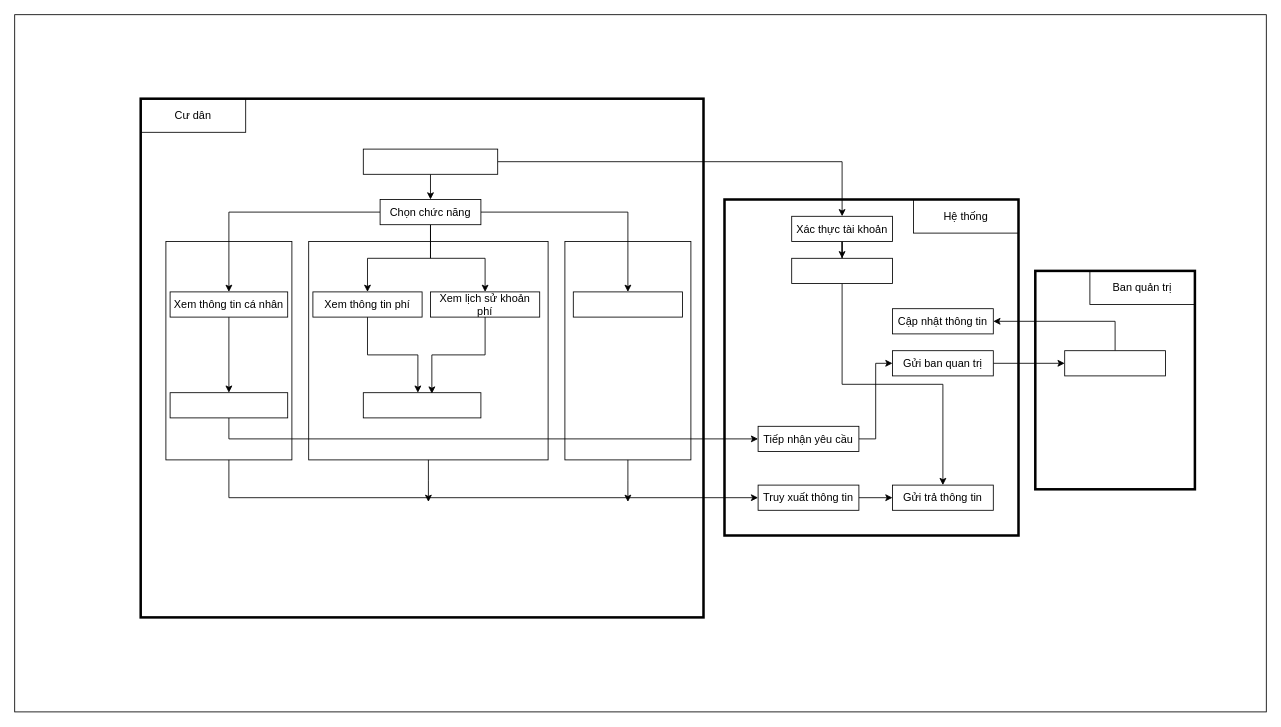
The diagram is 1281 pixels wide and 727 high, and some of its shapes have lost their labels. The box of each missing label's shape, as (x1, y1, x2, y2) in pixels:
Gửi khóa bảo mật: (791, 257, 892, 284)
Tải bản mềm: (362, 392, 481, 418)
Xem tin tức thông báo: (572, 291, 682, 317)
Xem xét và duyệt: (1064, 350, 1166, 376)
Yêu cầu chỉnh sửa: (169, 392, 288, 418)
Đăng nhập Poral/Tiện ích: (362, 148, 498, 174)
